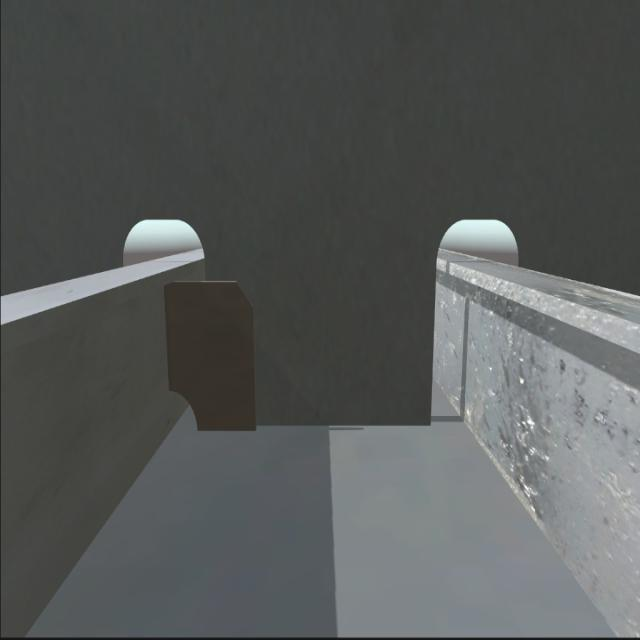fillet_yong_jeop_jang: (195, 420, 431, 434)
longi_yong_jeop_jang: (159, 287, 176, 394)
plate_CP03: (164, 282, 264, 442), (159, 384, 198, 438)
